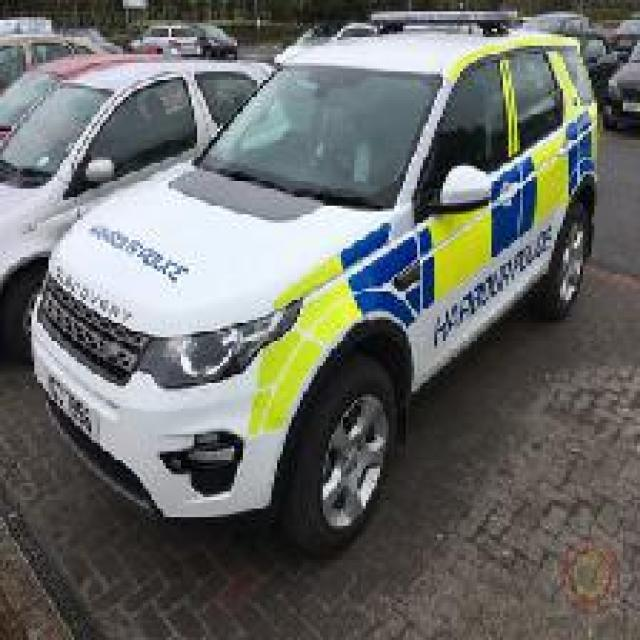emergency: (25, 12, 605, 558)
